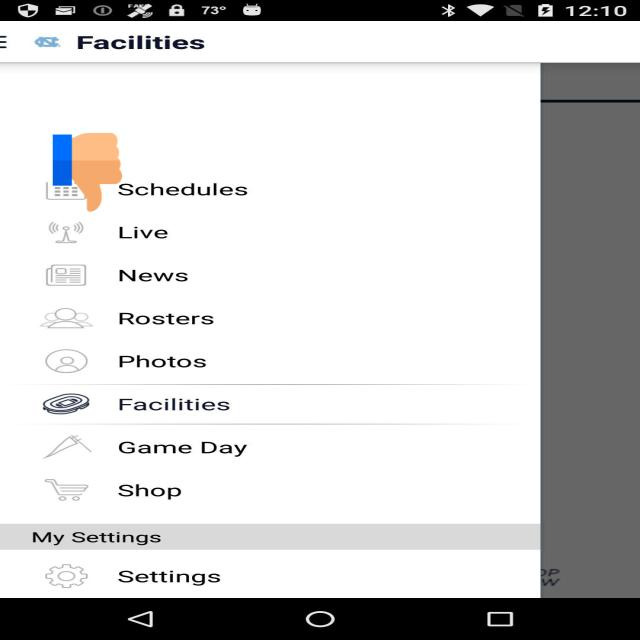obstruction: (53, 131, 122, 214)
